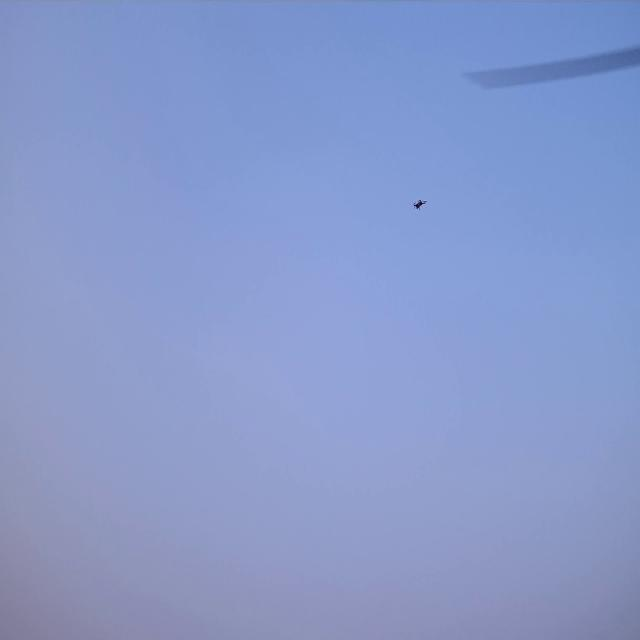UAV: (414, 200, 425, 208)
